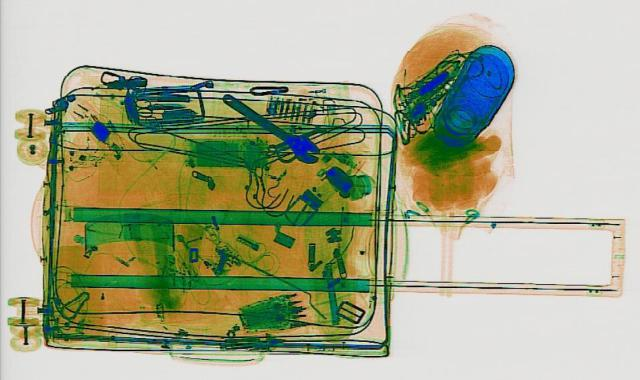Wrench: (210, 88, 332, 163)
